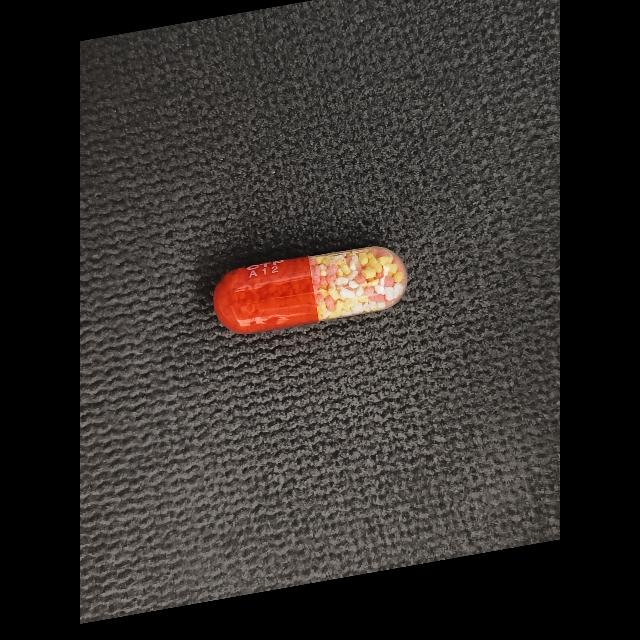Intact Capsule: (213, 246, 408, 334)
